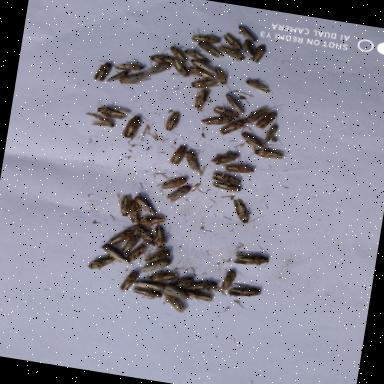pbw: (238, 143, 296, 169), (230, 240, 273, 274), (133, 252, 178, 284), (238, 100, 274, 138), (94, 240, 142, 268), (112, 66, 153, 97), (210, 114, 252, 142), (158, 107, 190, 143), (250, 102, 286, 134), (207, 166, 250, 192), (92, 98, 133, 125), (180, 83, 212, 117), (79, 250, 119, 277), (198, 106, 236, 134), (163, 178, 199, 207), (217, 90, 254, 118), (209, 64, 243, 94), (154, 172, 190, 200), (120, 112, 149, 146), (162, 139, 194, 169), (180, 146, 210, 178), (184, 276, 224, 300), (112, 266, 144, 296), (206, 146, 244, 171), (206, 178, 250, 199), (82, 109, 122, 132), (179, 43, 213, 70), (184, 72, 223, 95), (146, 222, 172, 256), (138, 211, 172, 237), (104, 222, 138, 248), (108, 54, 148, 76), (131, 278, 175, 298), (227, 282, 266, 304), (236, 130, 270, 155), (142, 244, 174, 270), (100, 66, 132, 92), (128, 194, 162, 218), (192, 38, 226, 62), (182, 288, 222, 308), (186, 28, 226, 48), (216, 27, 248, 52), (127, 284, 167, 304), (166, 56, 194, 84), (160, 293, 194, 316), (116, 229, 146, 255), (110, 190, 136, 220), (219, 158, 258, 178), (145, 267, 182, 288), (218, 268, 246, 294), (90, 57, 115, 86), (122, 242, 154, 264), (232, 22, 262, 45), (144, 57, 174, 80), (123, 196, 146, 226), (242, 75, 276, 95), (165, 44, 190, 70), (130, 222, 160, 243), (207, 104, 242, 122), (246, 40, 270, 66), (220, 46, 250, 66), (258, 120, 280, 146), (185, 63, 211, 85), (172, 270, 195, 294), (238, 36, 259, 62), (146, 50, 180, 66)
